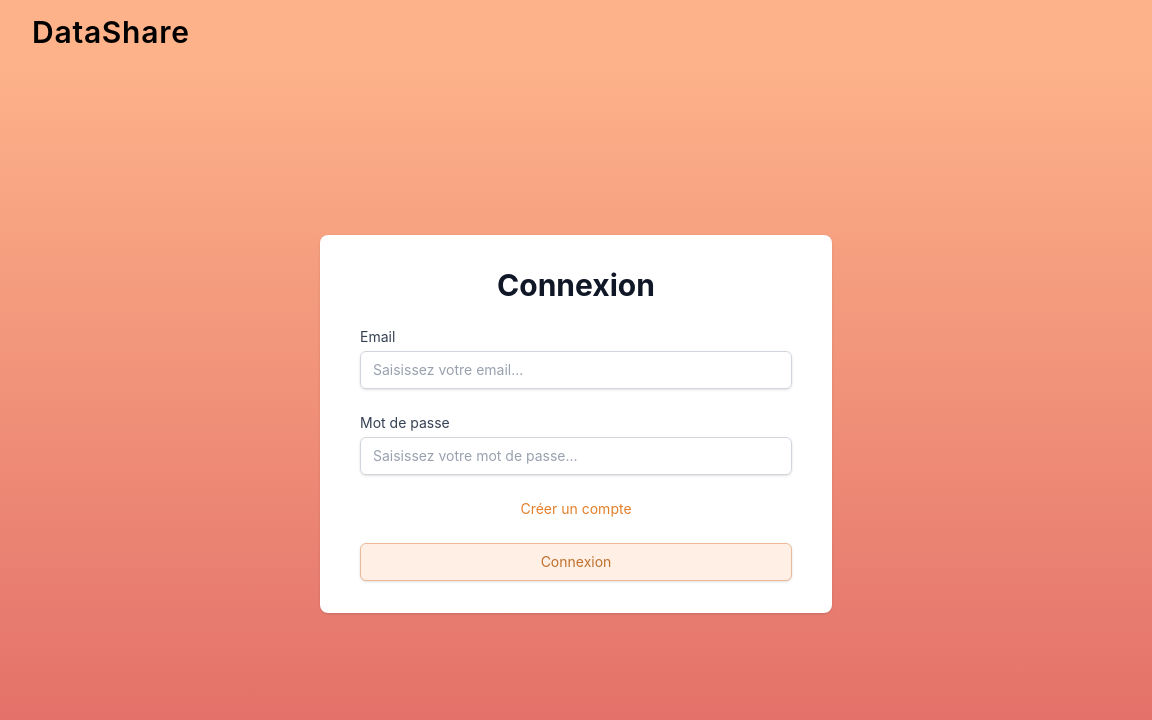
Test: Login page › Form Validation › should show validation errors when fields are empty
Click the button "Connexion" at {"x": 576, "y": 562}, box [360,543,792,581]
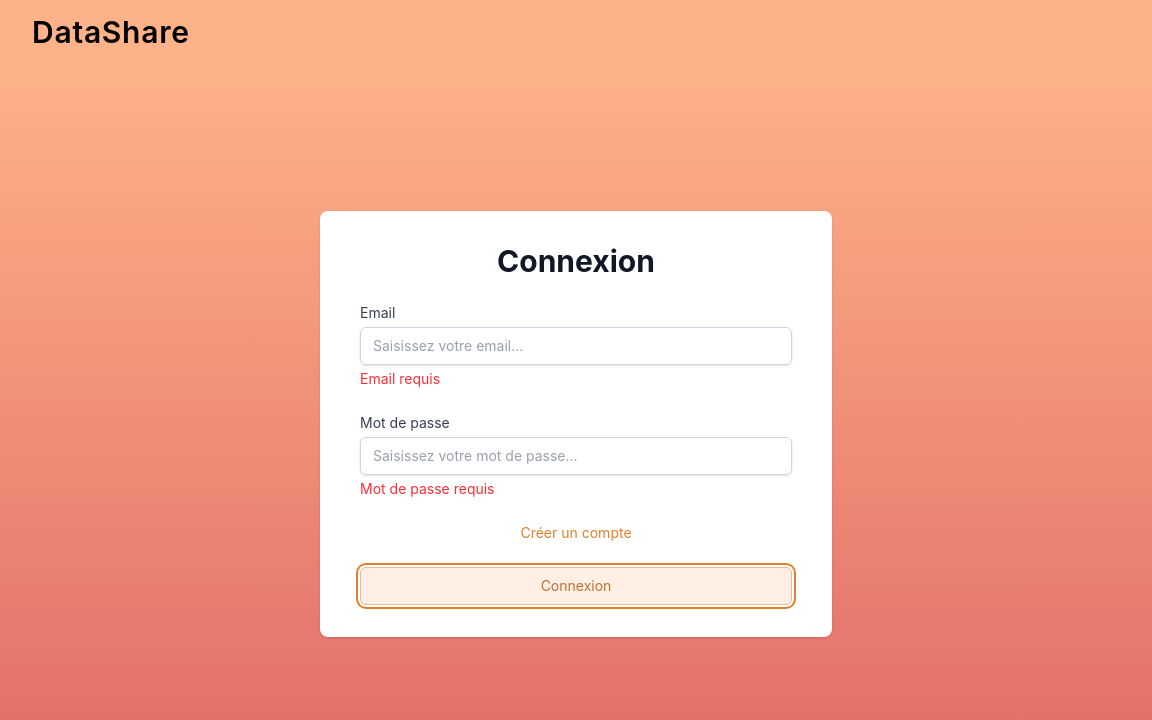
expect the text "Email requis" is shown: met, box [360,370,440,387]
expect the text "Mot de passe requis" is shown: met, box [360,480,494,497]
